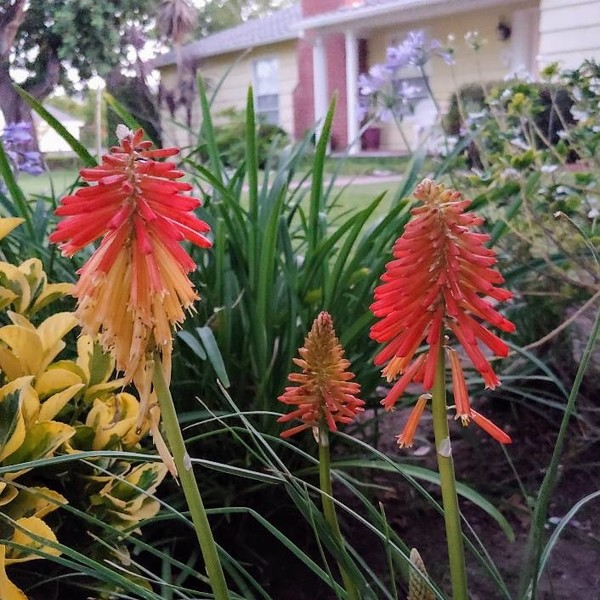obstacle: (37, 123, 520, 494)
